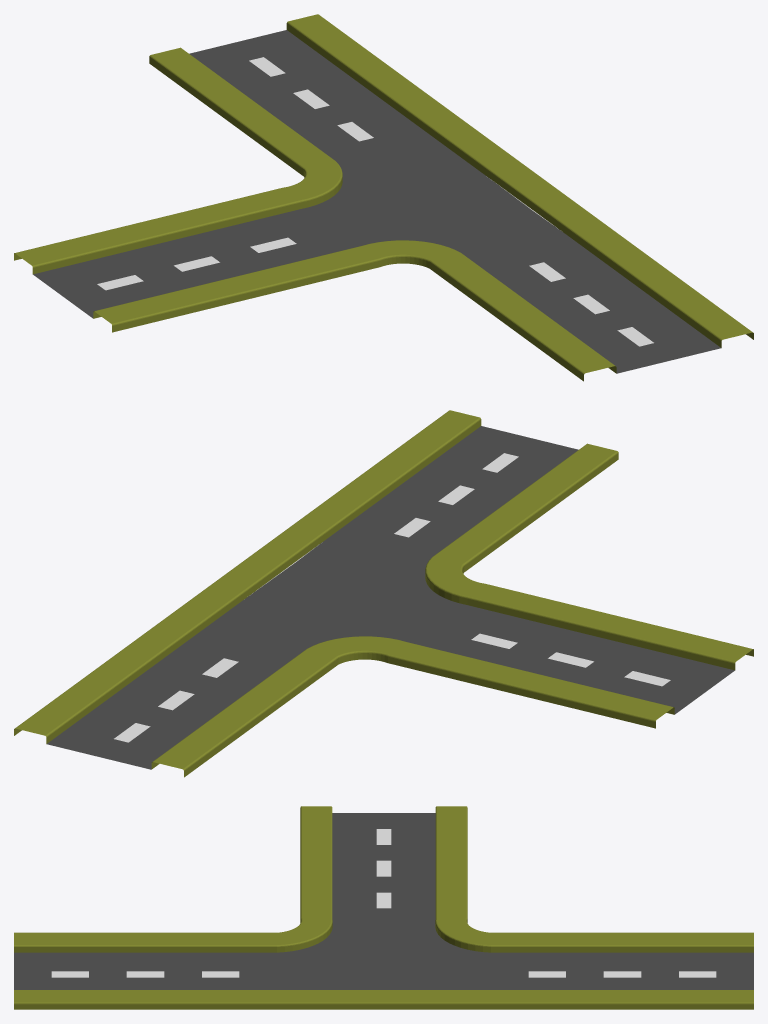
File: troad 1.fbx
3 renders of one model, top to bottom at view 1: azimuth 30°, elevation 25°; view 2: azimuth 150°, elevation 25°; view 3: azimuth 270°, elevation 25°, orthographic. The views are drawn at different scales.
Visible parts, largest first — view 1: Plane.003; view 2: Plane.003; view 3: Plane.003.
Part boxes in pixels (x1,y1,x2,y2): Plane.003: [14, 14, 753, 381]; Plane.003: [14, 410, 753, 777]; Plane.003: [14, 806, 753, 1009].
Bounding box in the file's own units: 2469 × 40.43 × 3927.
